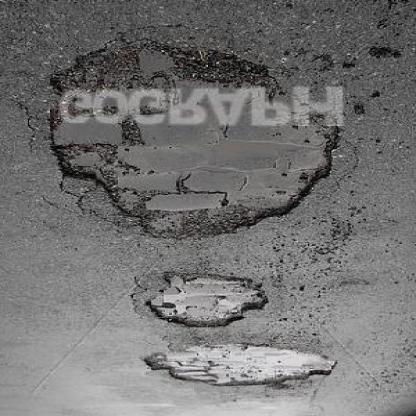pothole: (40, 42, 343, 248), (140, 351, 338, 389), (144, 274, 271, 332)
